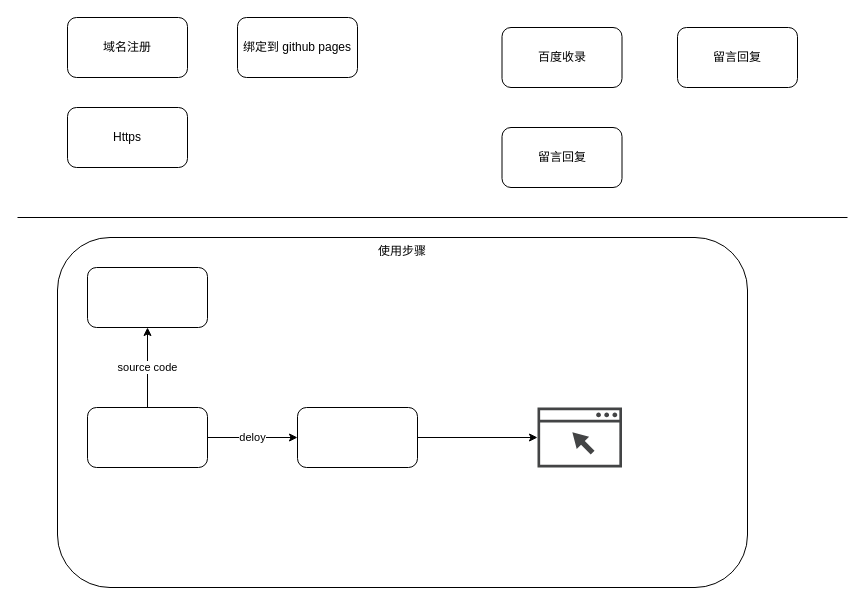
This 866x605 diagram has some shape labels left out. Each missing label, with the centre of its shape:
github pages: the point at 357,437
github repository: the point at 147,297
Hexo: the point at 147,437
